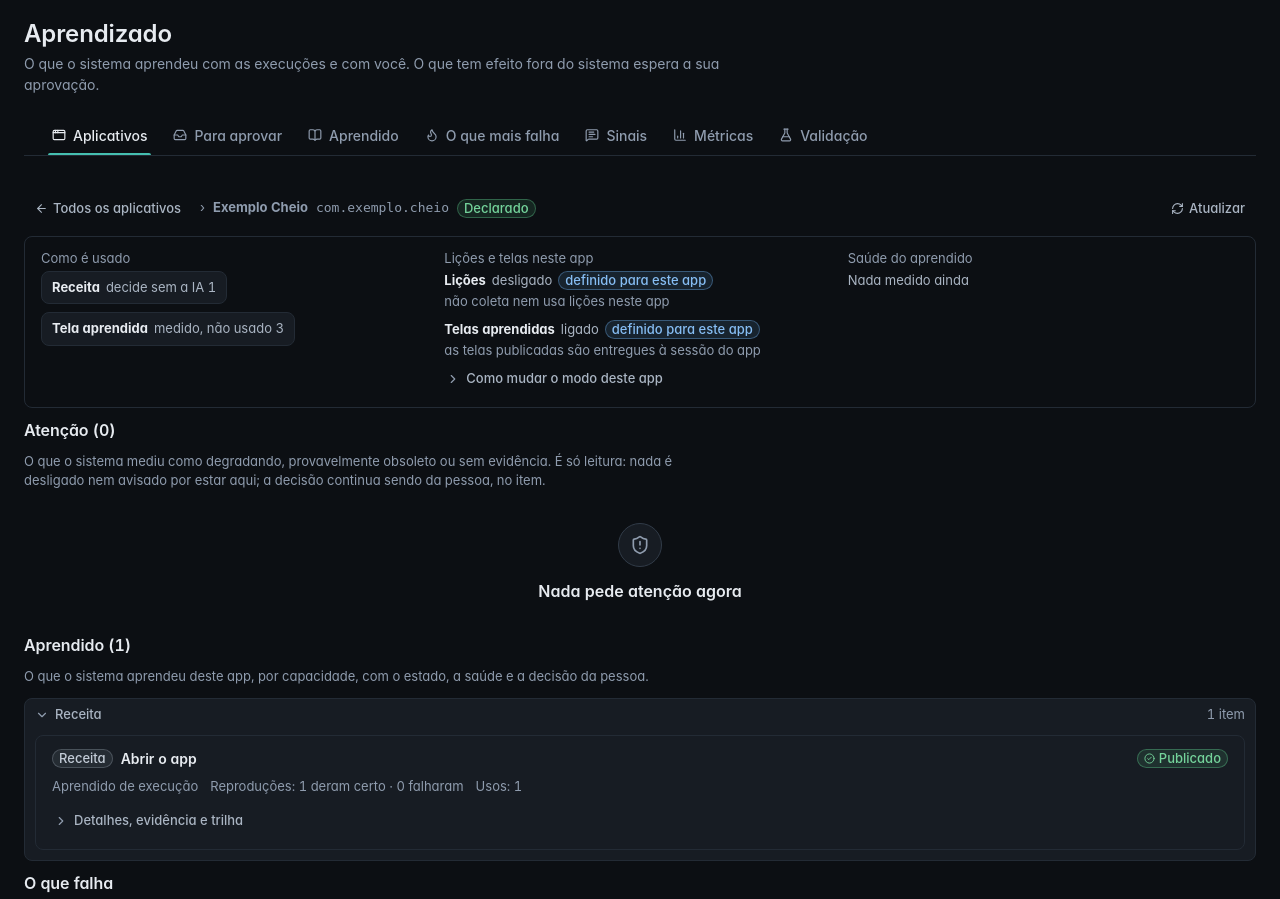
Scenario: modo por app de lições e telas (30.20, só leitura) › o detalhe diz o modo que vale, de onde vem, o que faz e como mudar
expect the element that starts with "Lições e telas neste app" is shown: met, box x1=444 y1=250 x2=761 y2=386
Click the heading "Como mudar o modo deste app": (555, 378) x1=446 y1=370 x2=663 y2=386
(page scrolled)
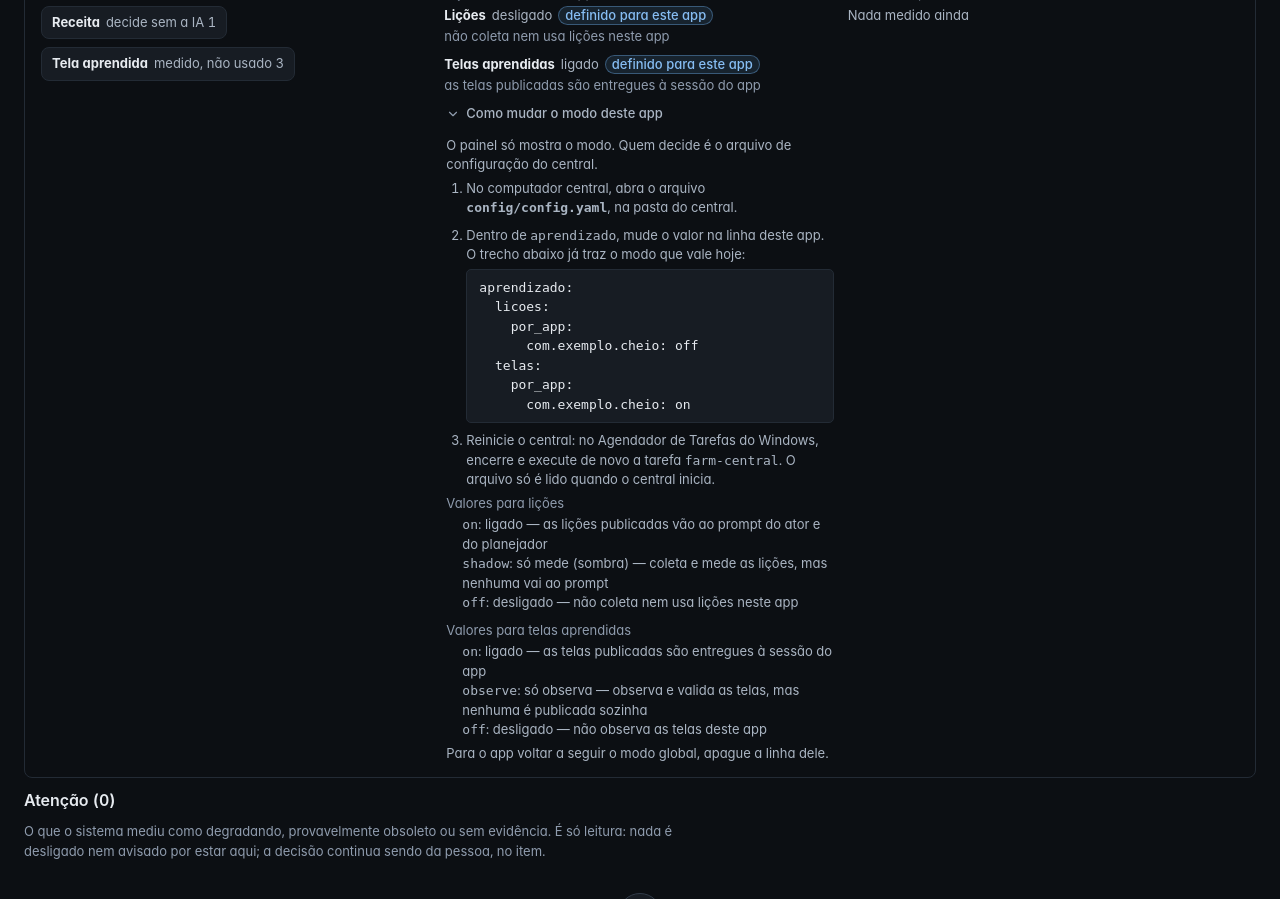
expect the text "config/config.yaml" is shown: met, box x1=466 y1=200 x2=607 y2=215
expect the text "farm-central" is shown: met, box x1=685 y1=452 x2=779 y2=468
